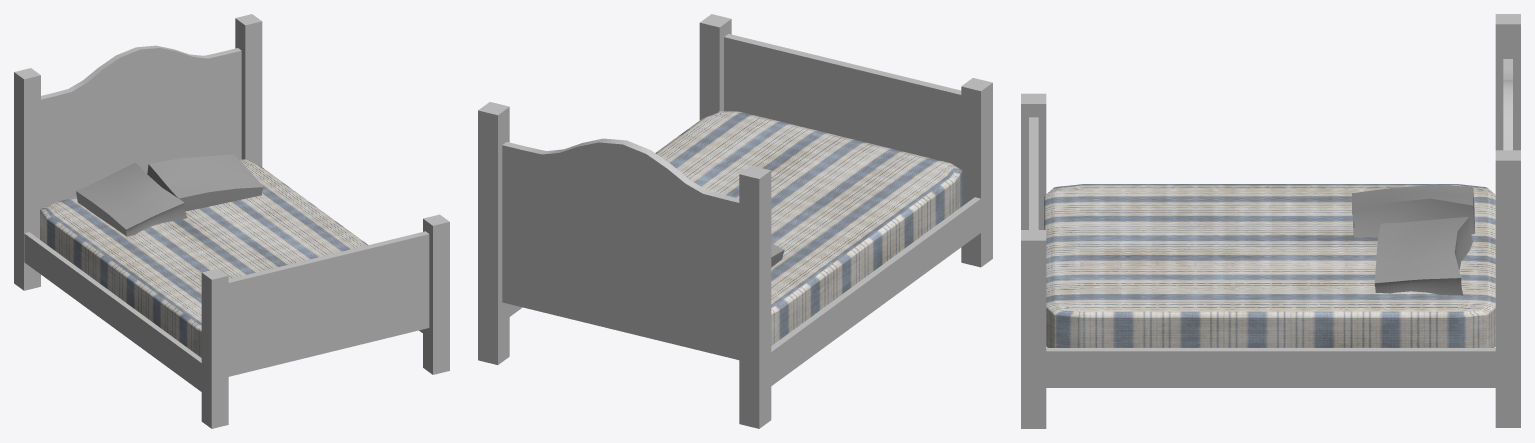
Rendered from bed.fbx.
The picture shows the model from 3 angles, left to right: view 1: azimuth 30°, elevation 25°; view 2: azimuth 150°, elevation 25°; view 3: azimuth 270°, elevation 25°; orthographic projection. The views are drawn at different scales.
Visible parts, largest first — view 1: pCube3 (×2), Mattress, pCube1 (×2), pCube4 (×2), pCube6, pCube7, pCube8; view 2: pCube3 (×2), Mattress, pCube1 (×2), pCube4 (×2), pCube6; view 3: Mattress, pCube5, pCube4 (×2), pCube8, pCube1 (×2), pCube7, pCube3 (×2).
Boxes of the visible parts, x1,y1,x2,y2 form: pCube3 (×2): (41,45,429,376); Mattress: (40,159,368,357); pCube1 (×2): (14,68,228,428); pCube4 (×2): (235,14,449,374); pCube6: (24,232,201,391); pCube7: (76,162,187,236); pCube8: (147,154,263,211); pCube3 (×2): (502,34,961,359); Mattress: (655,111,962,345); pCube1 (×2): (739,78,992,428); pCube4 (×2): (478,14,731,364); pCube6: (771,197,980,385); Mattress: (1044,184,1495,347); pCube5: (1046,348,1495,387); pCube4 (×2): (1021,150,1520,428); pCube8: (1374,217,1472,295); pCube1 (×2): (1021,14,1520,229); pCube7: (1352,185,1474,237); pCube3 (×2): (1029,59,1512,229).
Size of the model in its own units: 16.24 by 13.83 by 23.36.
